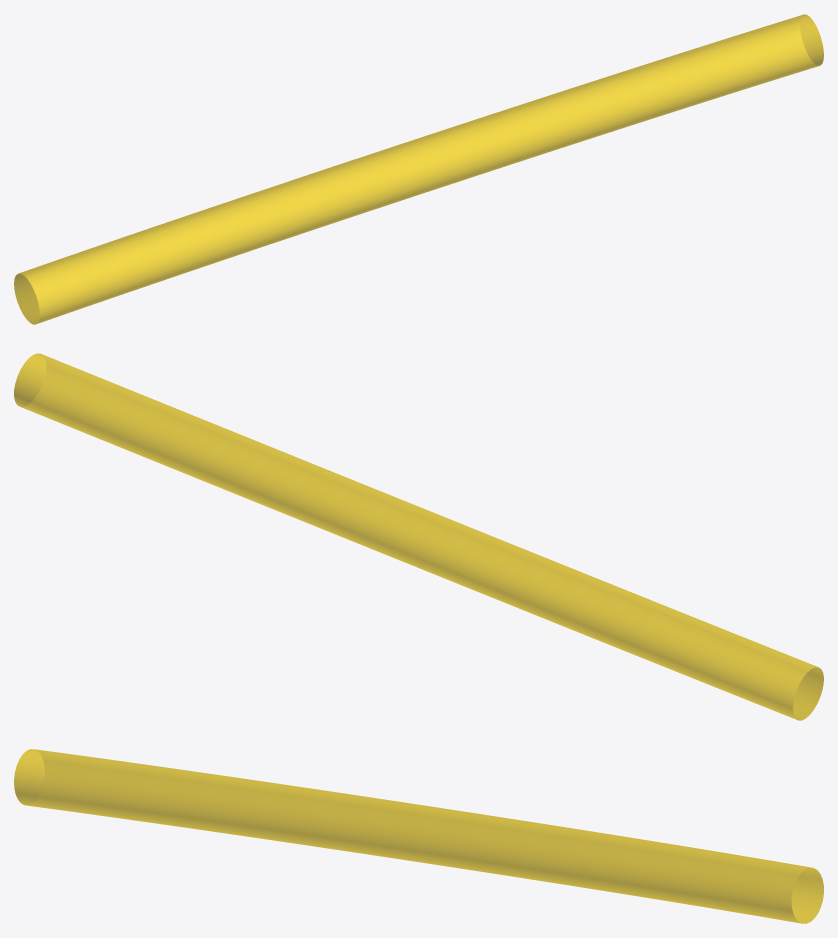
The model's file is Event_17758602_track_81.fbx.
The picture shows the model from 3 angles, top to bottom: view 1: azimuth 30°, elevation 25°; view 2: azimuth 150°, elevation 25°; view 3: azimuth 330°, elevation 25°; orthographic projection. The views are drawn at different scales.
Parts seen in each view (by area): view 1: Model; view 2: Model; view 3: Model.
Part boxes in pixels (<box>): Model: <box>14,14,823,324</box>; Model: <box>14,353,823,720</box>; Model: <box>14,749,823,923</box>.
Size of the model in its own units: 0.6569 by 0.1152 by 0.0775.
